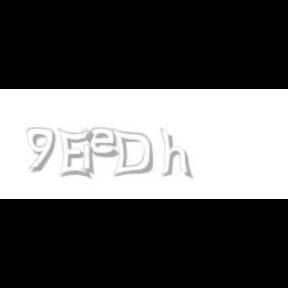9: (26, 128, 55, 172)
D: (110, 128, 153, 178)
E: (57, 128, 90, 180)
e: (90, 128, 123, 158)
h: (160, 128, 194, 180)
i: (82, 128, 98, 176)
